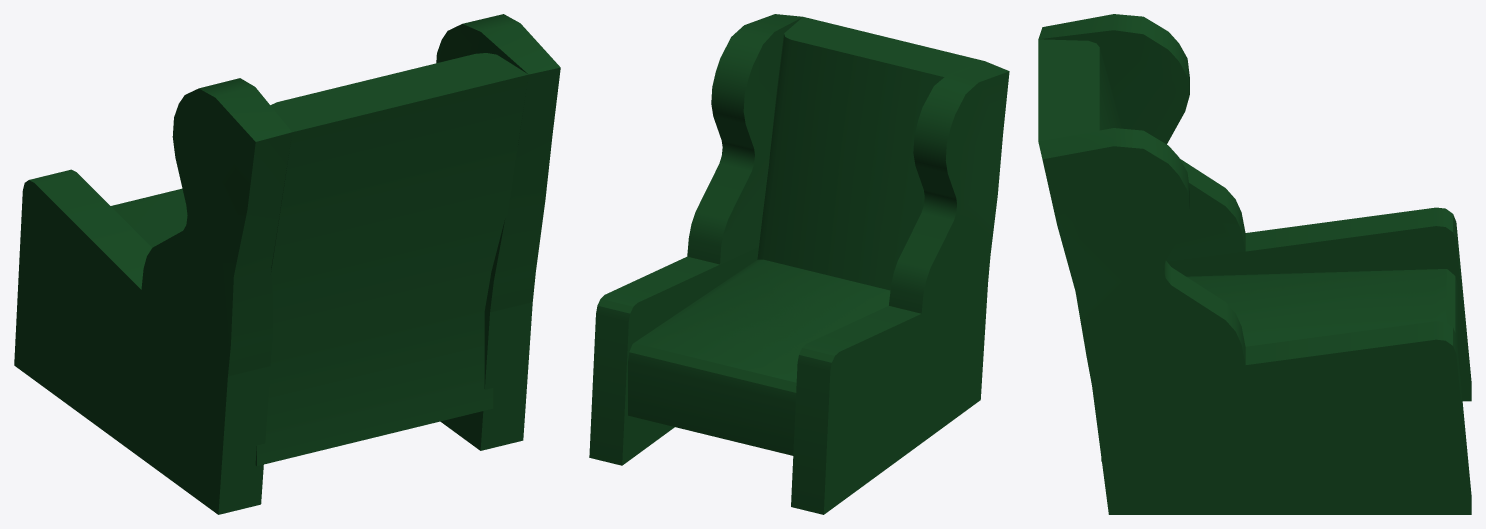
File: Couch.glb
3 renders of one model, left to right at view 1: azimuth 30°, elevation 25°; view 2: azimuth 150°, elevation 25°; view 3: azimuth 270°, elevation 25°, orthographic. The views are drawn at different scales.
Parts seen in each view (by area): view 1: Cube.023; view 2: Cube.023; view 3: Cube.023.
Boxes of the visible parts, <box> form: Cube.023: <box>14,14,560,514</box>; Cube.023: <box>589,14,1009,514</box>; Cube.023: <box>1038,14,1471,514</box>.
Bounding box in the file's own units: 3.21 × 4.09 × 4.35.
